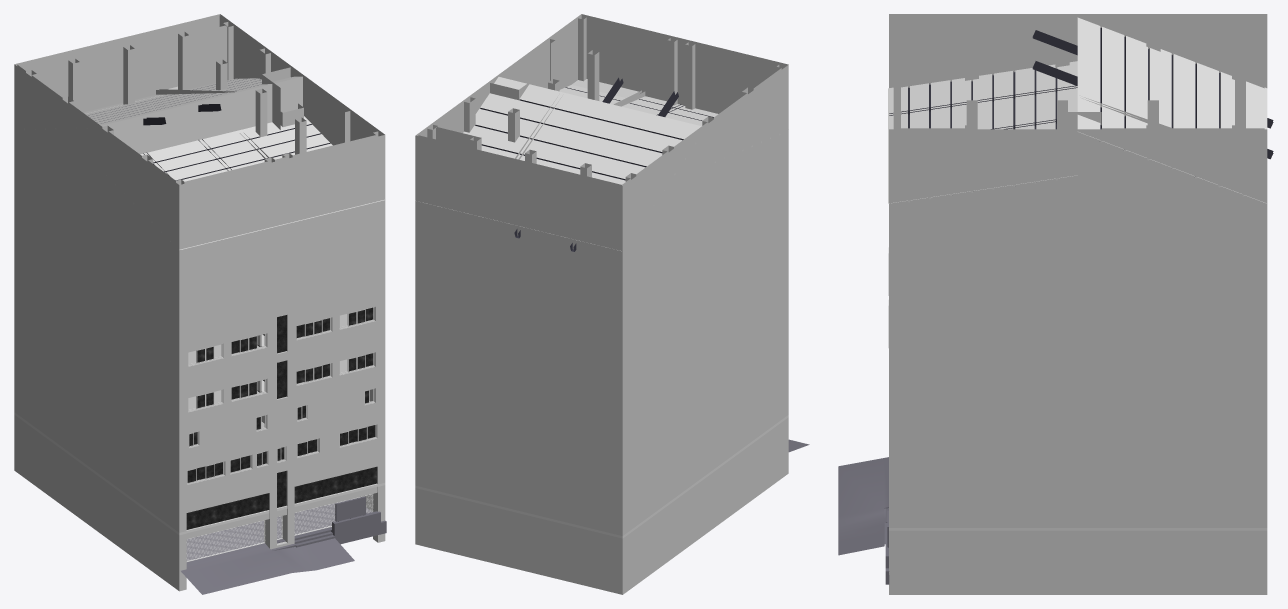
File: InterweaveCampus.fbx
The picture shows the model from 3 angles, left to right: view 1: azimuth 30°, elevation 25°; view 2: azimuth 150°, elevation 25°; view 3: azimuth 270°, elevation 25°; orthographic projection. The views are drawn at different scales.
Parts seen in each view (by area): view 1: 7thFloorBase, 5thFloorBase, 6thFloorBase, 2ndfloorBase, BuildingRoof, 3rdFloorBase, 4thFloorBase, 1stFloorBase, 1stFloorFloor, 7thFloorCeiling; view 2: 7thFloorBase, 1stFloorBase, 5thFloorBase, 6thFloorBase, 2ndfloorBase, BuildingRoof, 3rdFloorBase, 4thFloorBase, 7thFloorCeiling; view 3: 7thFloorBase, 1stFloorBase, BuildingRoof, 5thFloorBase, 6thFloorBase, 2ndfloorBase, 3rdFloorBase, 4thFloorBase, 1stFloorFloor, 7thFloorCeiling.
Boxes of the visible parts, <box> form: 7thFloorBase: <box>14,14,385,334</box>; 5thFloorBase: <box>14,259,385,424</box>; 6thFloorBase: <box>14,213,385,379</box>; 2ndfloorBase: <box>14,376,385,535</box>; BuildingRoof: <box>24,76,385,249</box>; 3rdFloorBase: <box>14,340,385,496</box>; 4thFloorBase: <box>14,304,385,460</box>; 1stFloorBase: <box>14,415,385,591</box>; 1stFloorFloor: <box>181,494,386,594</box>; 7thFloorCeiling: <box>143,86,269,175</box>; 7thFloorBase: <box>415,14,788,336</box>; 1stFloorBase: <box>415,417,788,594</box>; 5thFloorBase: <box>415,260,788,427</box>; 6thFloorBase: <box>415,216,788,381</box>; 2ndfloorBase: <box>415,379,788,538</box>; BuildingRoof: <box>423,77,780,251</box>; 3rdFloorBase: <box>415,342,788,499</box>; 4thFloorBase: <box>415,306,788,463</box>; 7thFloorCeiling: <box>514,77,684,251</box>; 7thFloorBase: <box>889,14,1267,300</box>; 1stFloorBase: <box>889,530,1267,594</box>; BuildingRoof: <box>888,17,1267,203</box>; 5thFloorBase: <box>888,300,1267,404</box>; 6thFloorBase: <box>888,247,1267,351</box>; 2ndfloorBase: <box>889,486,1267,530</box>; 3rdFloorBase: <box>889,445,1267,486</box>; 4thFloorBase: <box>889,404,1267,445</box>; 1stFloorFloor: <box>838,457,889,584</box>; 7thFloorCeiling: <box>889,30,1273,159</box>.
Size of what is drawn, in the model's own units: 1800 by 3458 by 2867.
